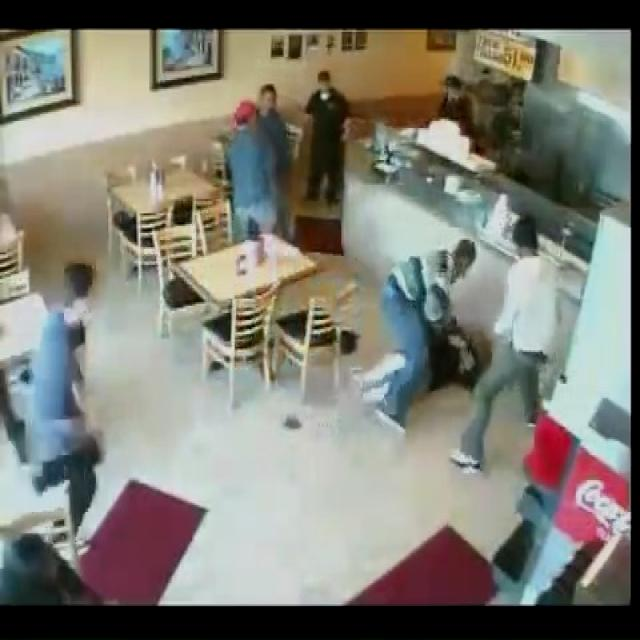fight: (369, 238, 490, 436), (227, 80, 295, 270)
